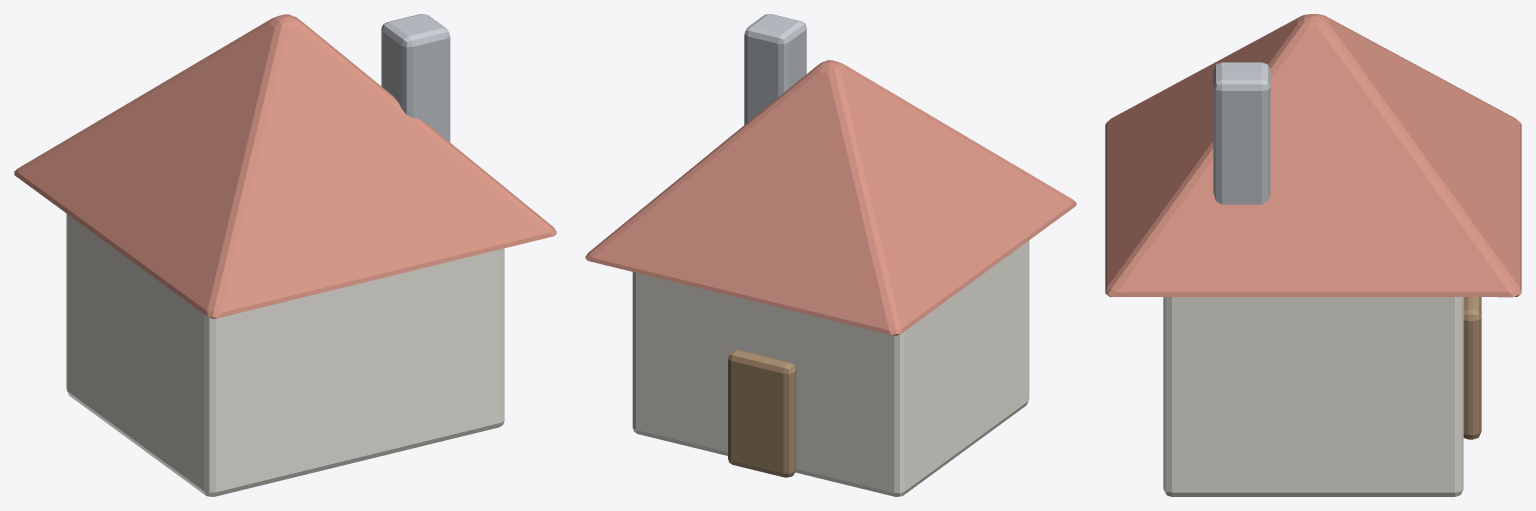
The model's file is house.glb.
3 views of the same model, side by side, from view 1: azimuth 30°, elevation 25°; view 2: azimuth 150°, elevation 25°; view 3: azimuth 270°, elevation 25° (orthographic). The views are drawn at different scales.
Parts seen in each view (by area): view 1: house; view 2: house; view 3: house.
Boxes of the visible parts, x1,y1,x2,y2 form: house: [14, 14, 556, 496]; house: [585, 14, 1076, 496]; house: [1105, 14, 1521, 496].
Bounding box in the file's own units: 0.5823 × 0.63 × 0.5823.
